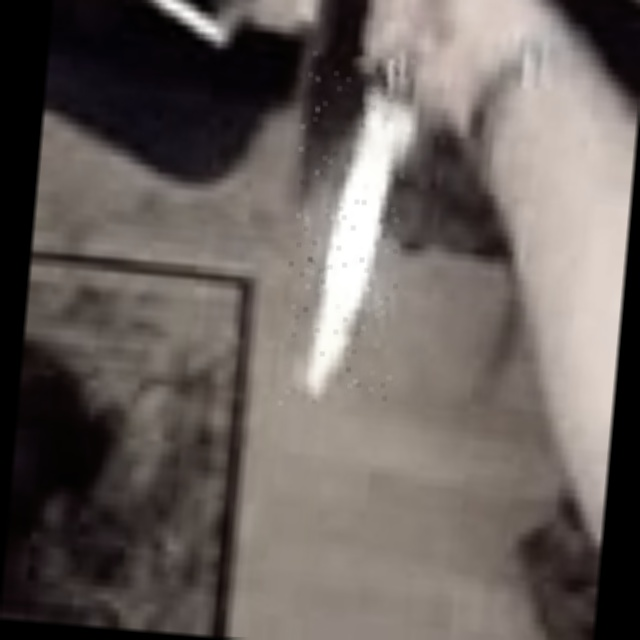Sharp-Object: (279, 52, 417, 413)
